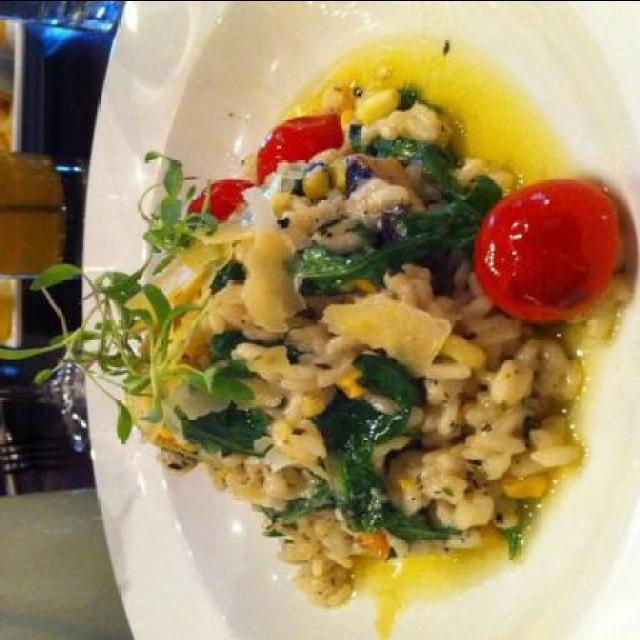Risotto: (143, 45, 588, 598)
